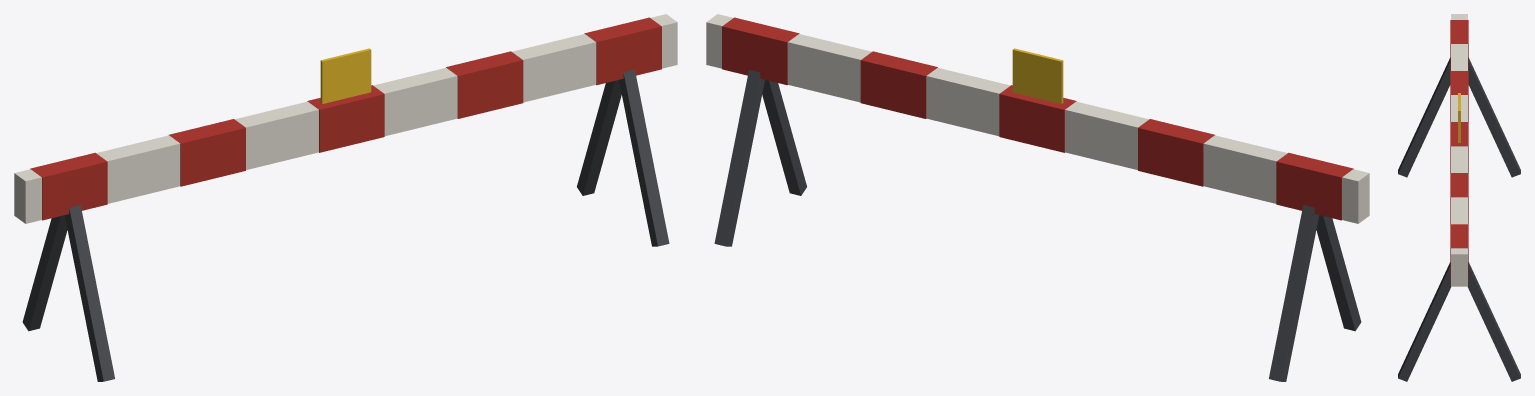
Rendered from SM_Borgo_Road_Barrier.glb.
The picture shows the model from 3 angles, left to right: view 1: azimuth 30°, elevation 25°; view 2: azimuth 150°, elevation 25°; view 3: azimuth 270°, elevation 25°; orthographic projection. The views are drawn at different scales.
Parts seen in each view (by area): view 1: SM_Borgo_Road_Barrier; view 2: SM_Borgo_Road_Barrier; view 3: SM_Borgo_Road_Barrier.
Part boxes in pixels (x1,y1,x2,y2): SM_Borgo_Road_Barrier: [14, 14, 677, 381]; SM_Borgo_Road_Barrier: [706, 14, 1369, 381]; SM_Borgo_Road_Barrier: [1398, 14, 1520, 381].
Bounding box in the file's own units: 4 × 1.36 × 0.8645.
Materials: 1 (1 with a texture image).
